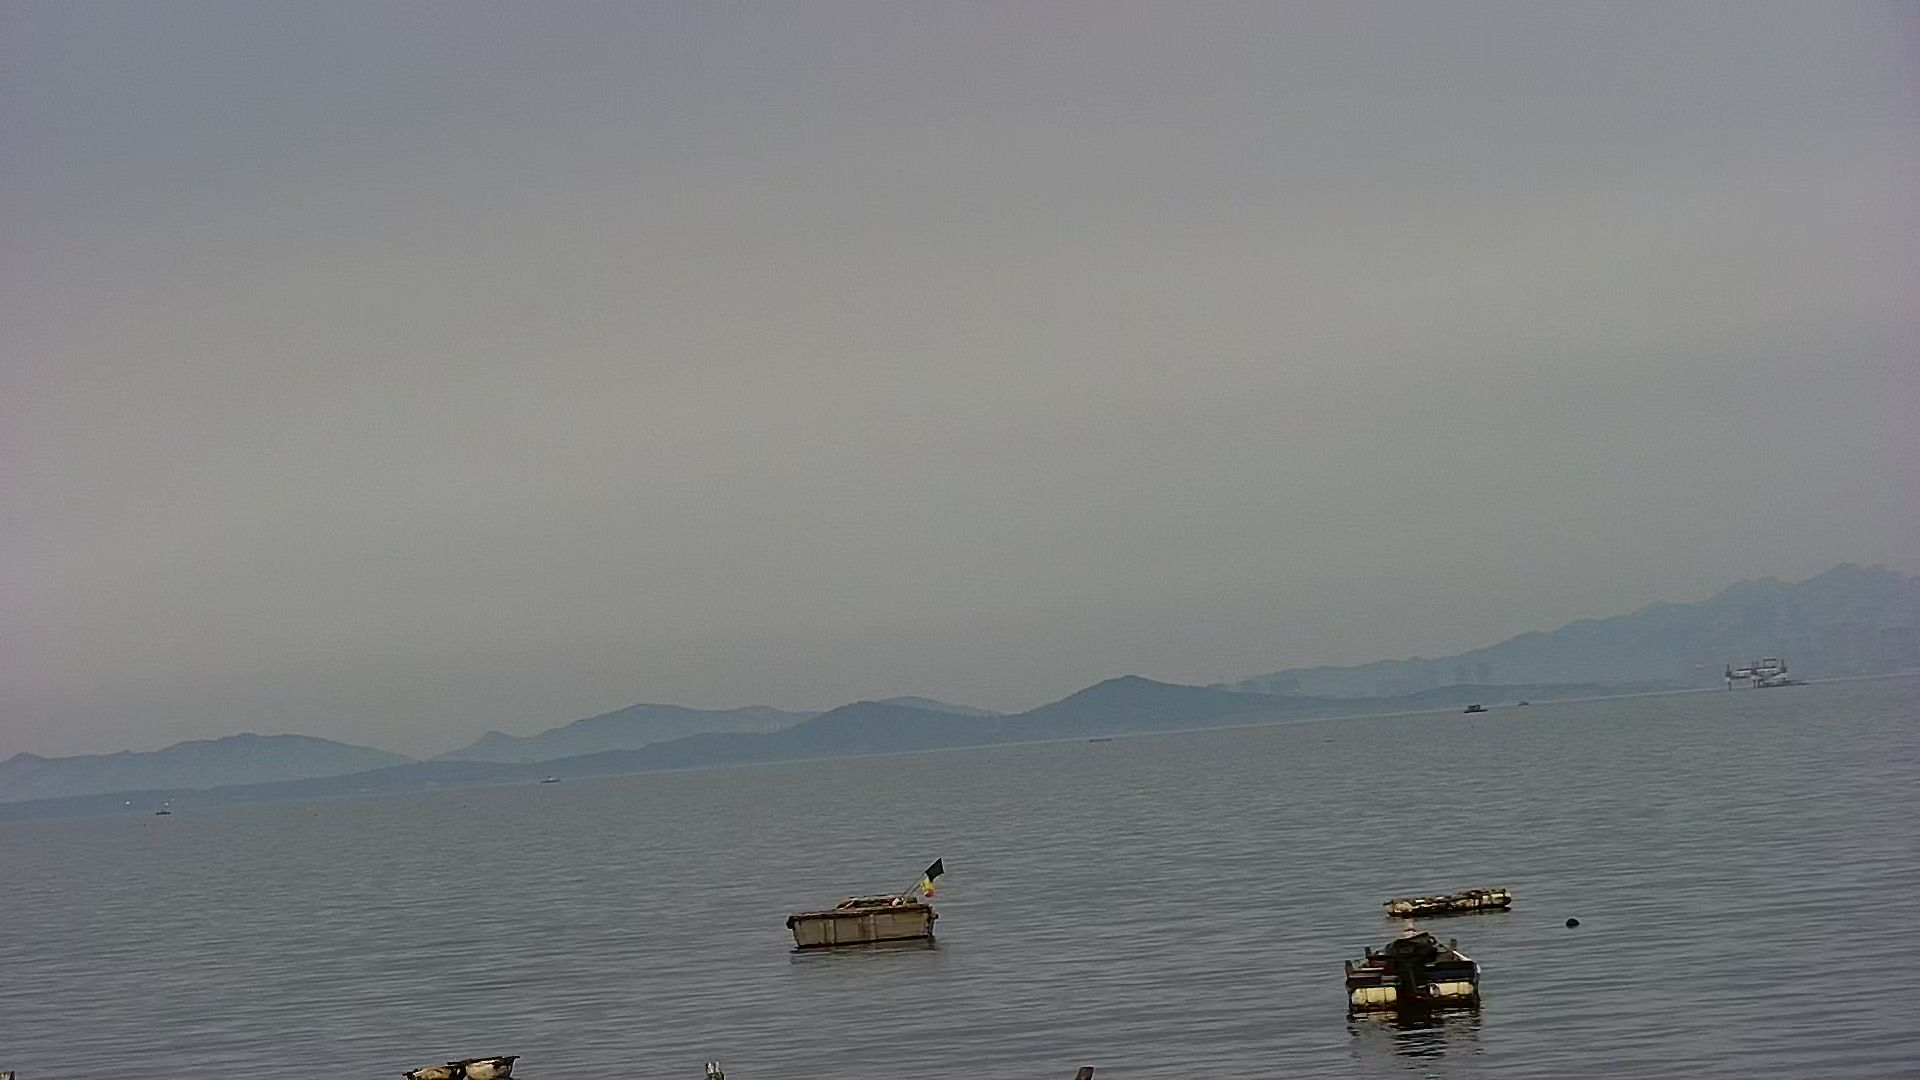boat: (1338, 939, 1497, 1026), (775, 886, 953, 963), (1369, 860, 1527, 926)
